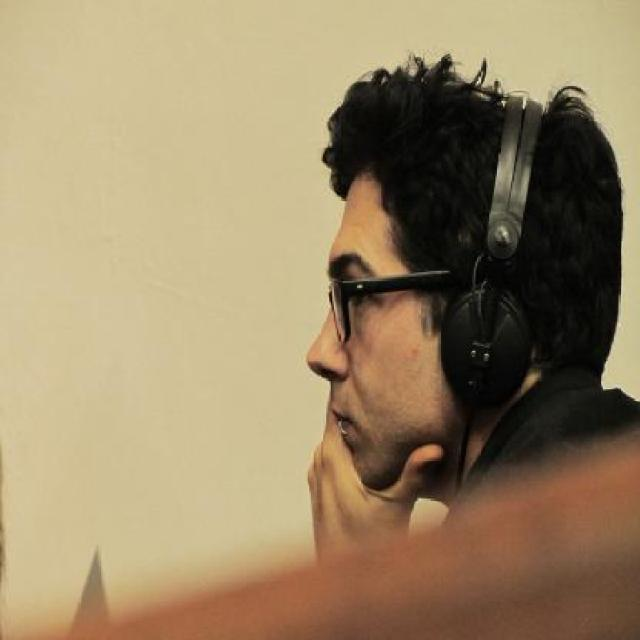earphone: (434, 73, 548, 440)
